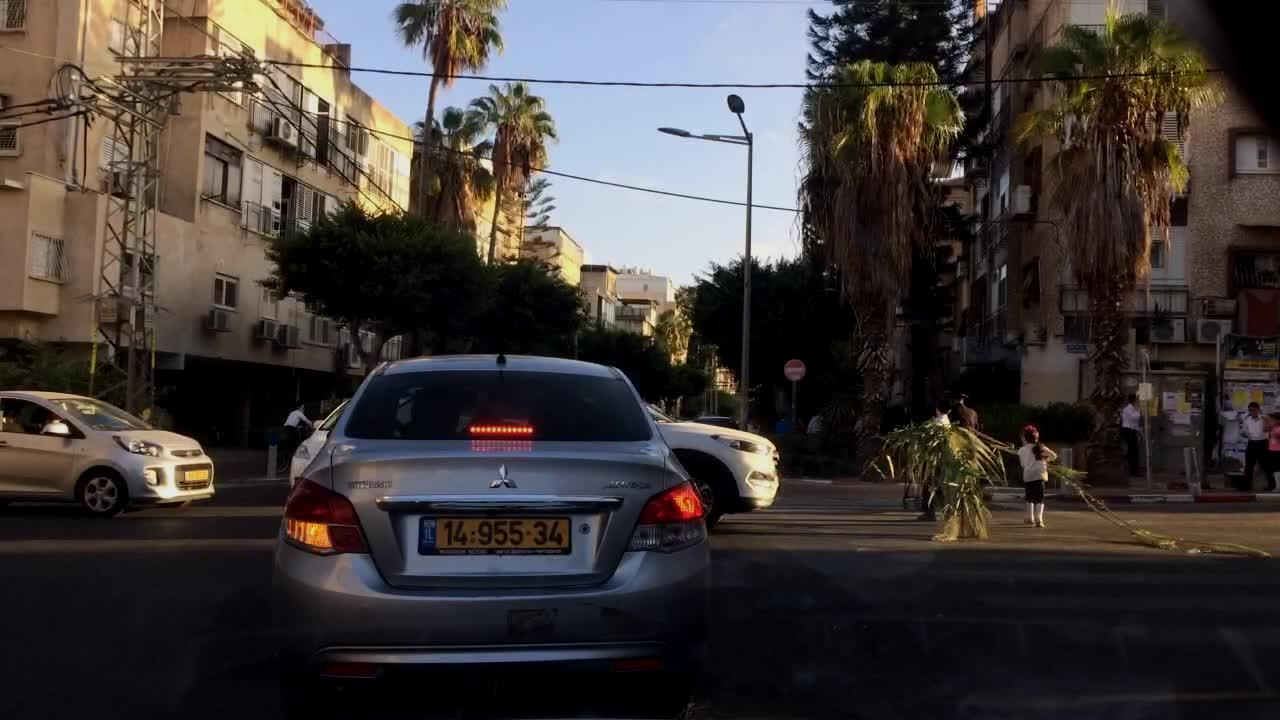Mitsubishi: (477, 458, 524, 493)
